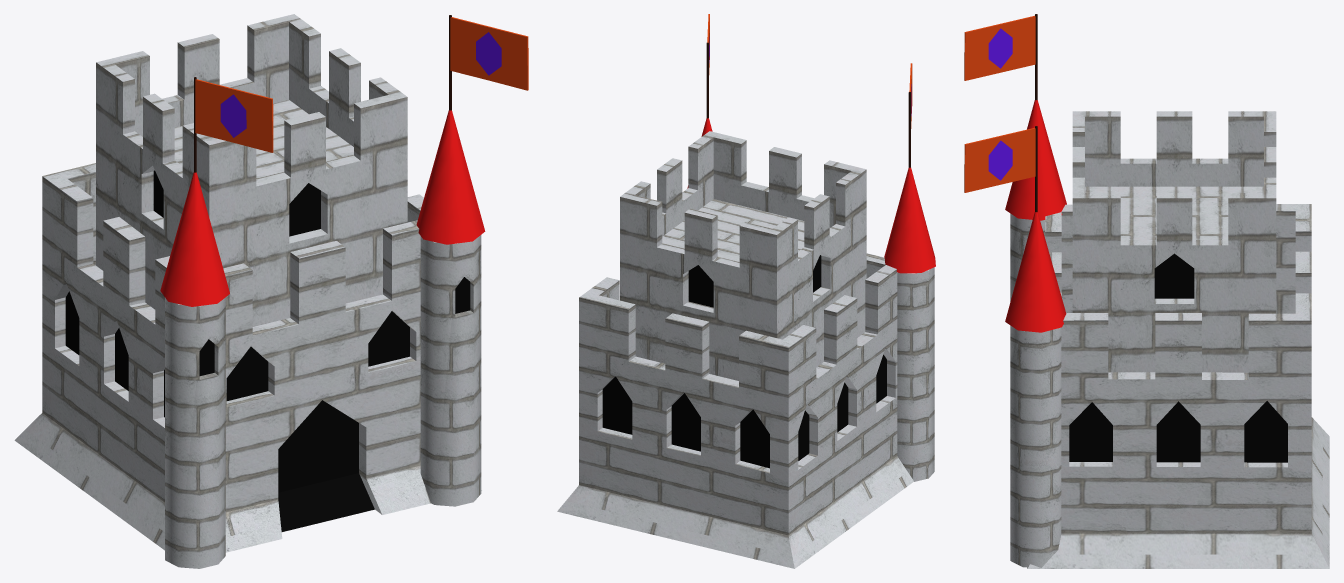
File: castilloNivel3.fbx
3 renders of one model, left to right at view 1: azimuth 30°, elevation 25°; view 2: azimuth 150°, elevation 25°; view 3: azimuth 270°, elevation 25°, orthographic. The views are drawn at different scales.
Visible parts, largest first — view 1: Box009, Box011, Cylinder005, Cylinder003, Cone001, Cone002, Box013, Box012; view 2: Box009, Box011, Cylinder003, Cone001; view 3: Box009, Box011, Cylinder005, Cone002, Box013, Box012, Cone001, Cylinder003.
Part boxes in pixels (x1,y1,x2,y2): Box009: [14, 163, 481, 552]; Box011: [96, 14, 407, 326]; Cylinder005: [420, 235, 481, 506]; Cylinder003: [165, 297, 225, 568]; Cone001: [160, 172, 229, 306]; Cone002: [416, 110, 485, 244]; Box013: [450, 17, 528, 90]; Box012: [195, 79, 273, 152]; Box009: [557, 253, 913, 568]; Box011: [620, 131, 866, 380]; Cylinder003: [897, 267, 934, 481]; Cone001: [884, 167, 935, 273]; Box009: [1027, 204, 1329, 568]; Box011: [1072, 111, 1276, 372]; Cylinder005: [1010, 325, 1061, 567]; Cone002: [1005, 212, 1066, 332]; Box013: [964, 127, 1035, 192]; Box012: [964, 15, 1035, 80]; Cone001: [1005, 100, 1066, 220]; Cylinder003: [1010, 213, 1045, 301].
Bounding box in the file's own units: 2.52 × 3.56 × 2.74.
8 materials, 1 textured.
